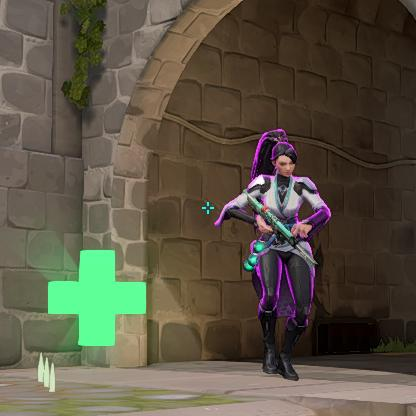enemyBody: (262, 176, 295, 240)
enemyHead: (277, 154, 293, 175)
